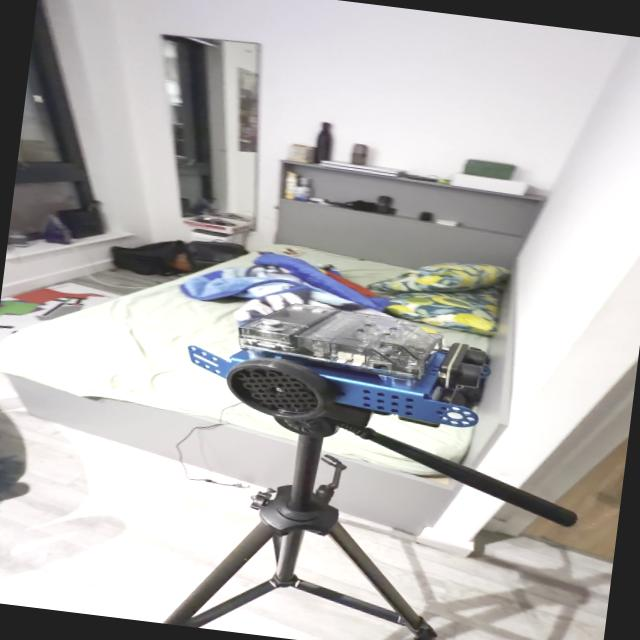mbot-detection: (172, 284, 498, 448)
